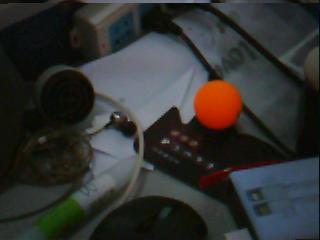oball: (194, 80, 242, 129)
